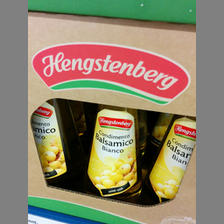vinegar: (83, 104, 146, 201), (150, 110, 197, 205), (31, 99, 78, 190)
